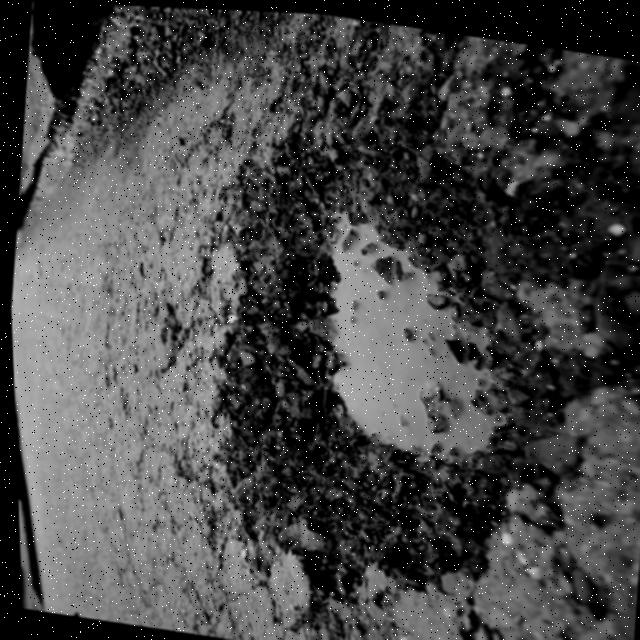Pothole: (194, 116, 621, 638)
